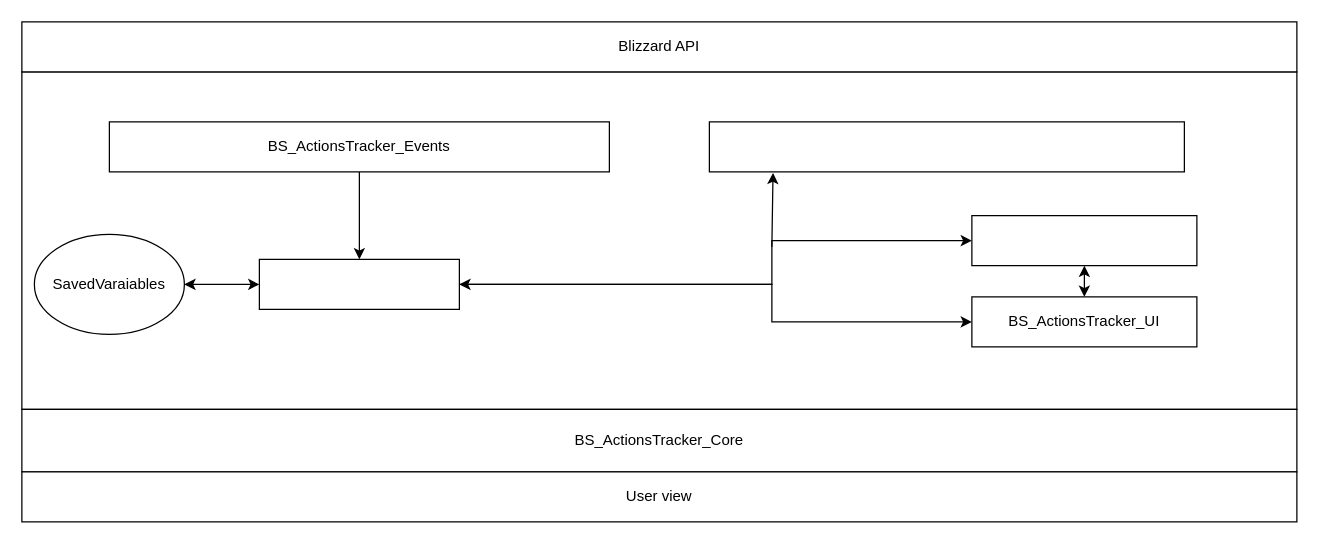
The diagram is 1319 pixels wide and 544 high, and some of its shapes have lost their labels. The box of each missing label's shape, as (x1, y1, x2, y2) in pixels:
BS_ActionsTracker_Actions: (971, 214, 1197, 266)
BS_ActionsTracker_Config: (258, 258, 459, 309)
BS_ActionsTrackerAPI: (708, 121, 1184, 172)
